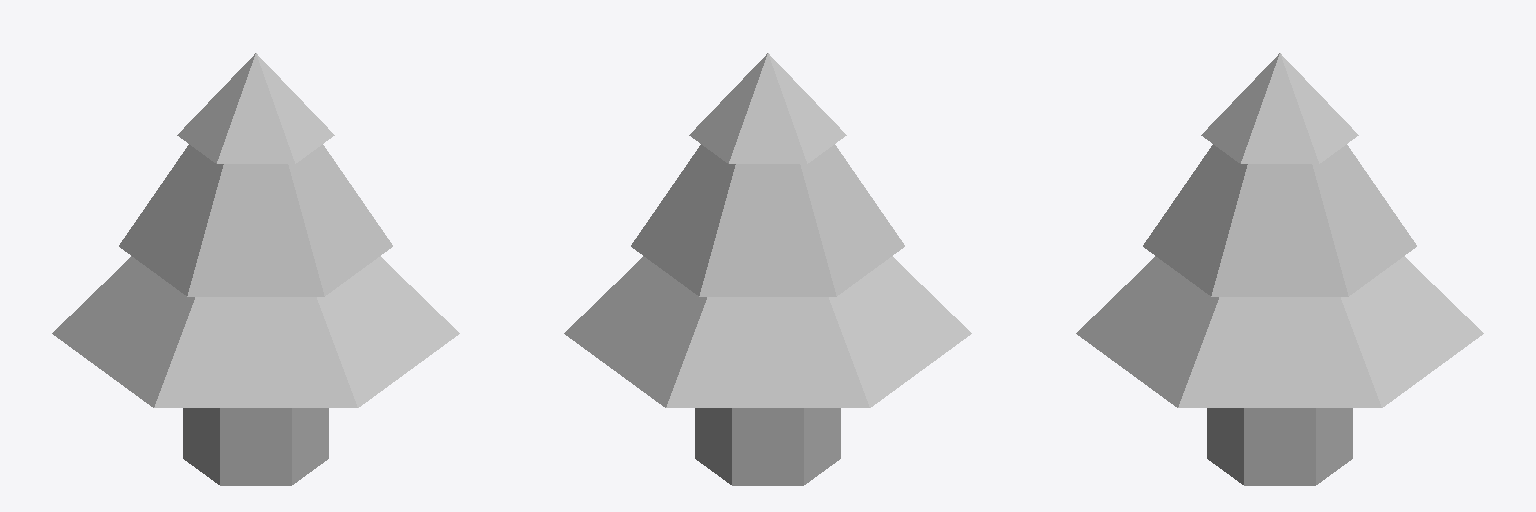
The model's file is Tree.obj.
The picture shows the model from 3 angles: view 1: azimuth 30°, elevation 25°; view 2: azimuth 150°, elevation 25°; view 3: azimuth 270°, elevation 25°; orthographic projection.
Parts seen in each view (by area): view 1: Cube; view 2: Cube; view 3: Cube.
Part boxes in pixels (x1,y1,x2,y2): Cube: (52, 53, 459, 485); Cube: (564, 53, 971, 485); Cube: (1076, 53, 1483, 485).
Size of the model in its own units: 1.4 by 1.77 by 1.61.